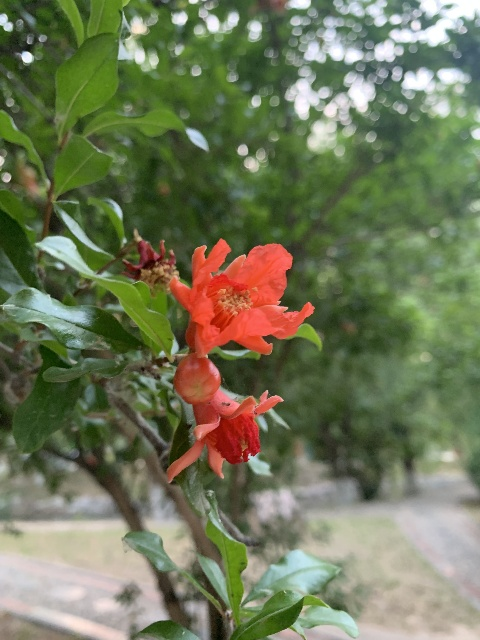bud: (173, 354, 222, 403)
flower: (168, 237, 314, 358), (166, 390, 283, 480)
